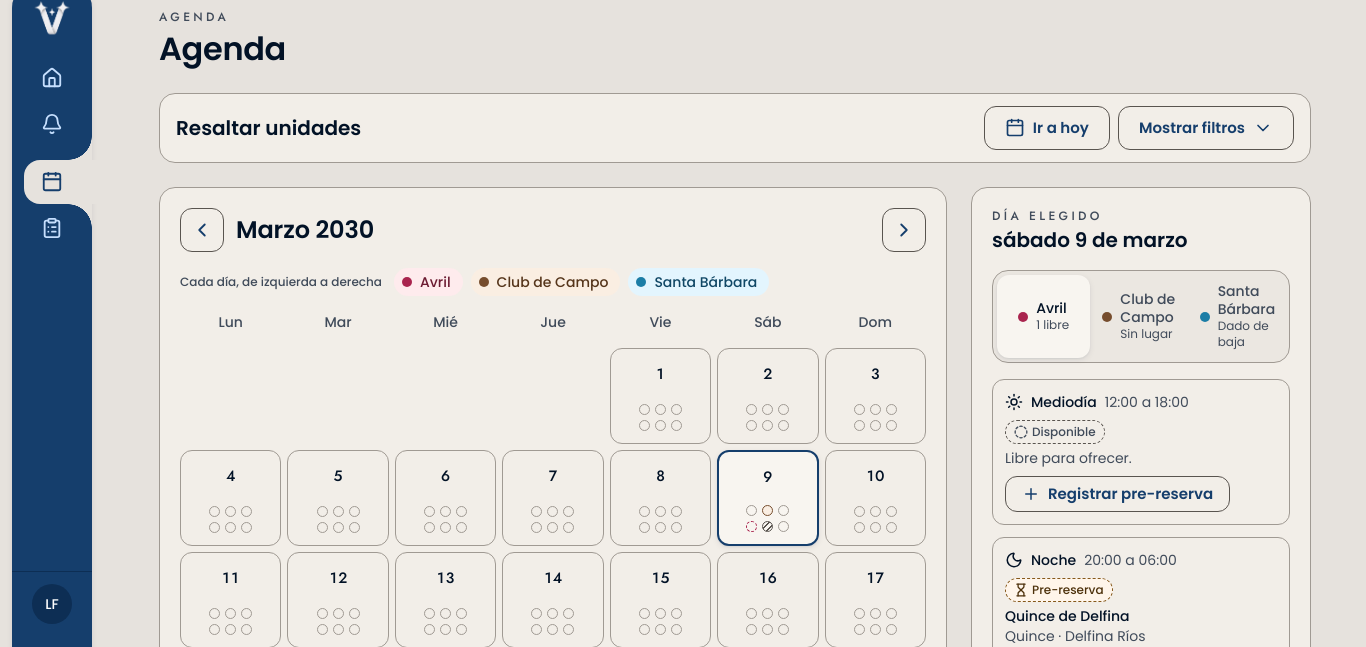
it: UI-07 · consultar agenda › pasa al mes siguiente y pide sus datos
(page scrolled)
Click the button named "Mes siguiente": (904, 230) [882,208,926,252]
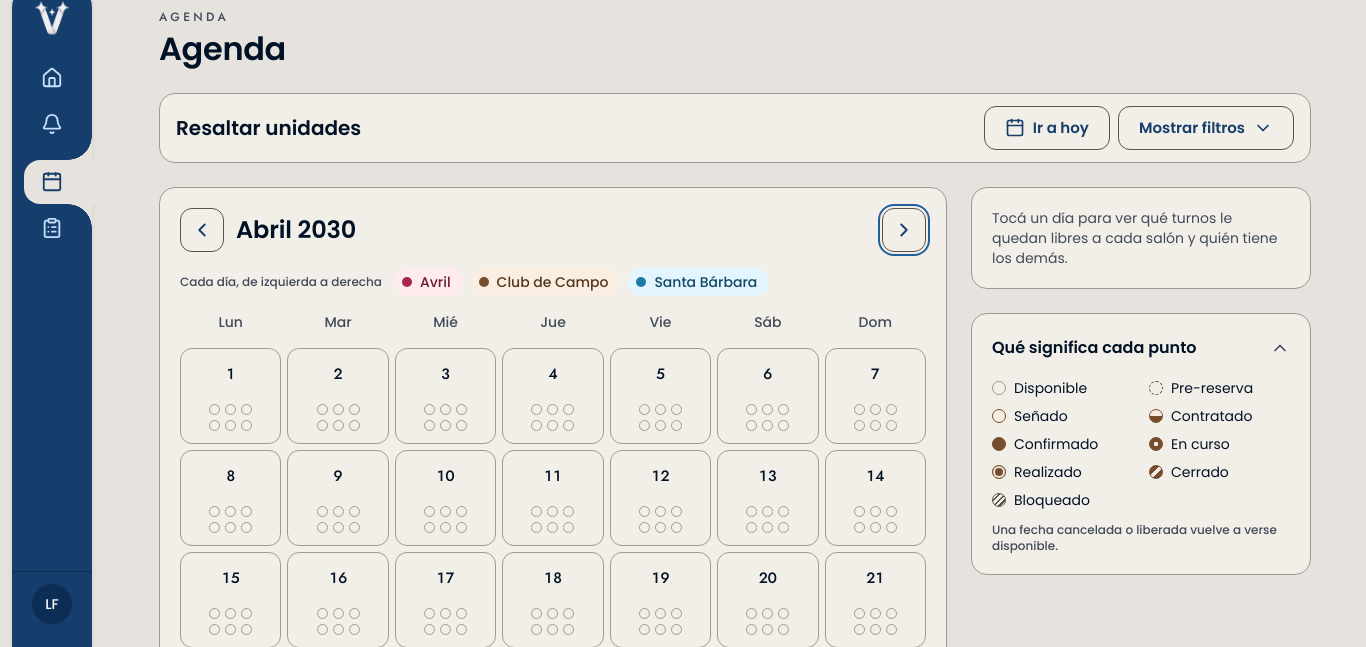
Check: the heading "Abril 2030" is shown, box [236,213,356,246]
